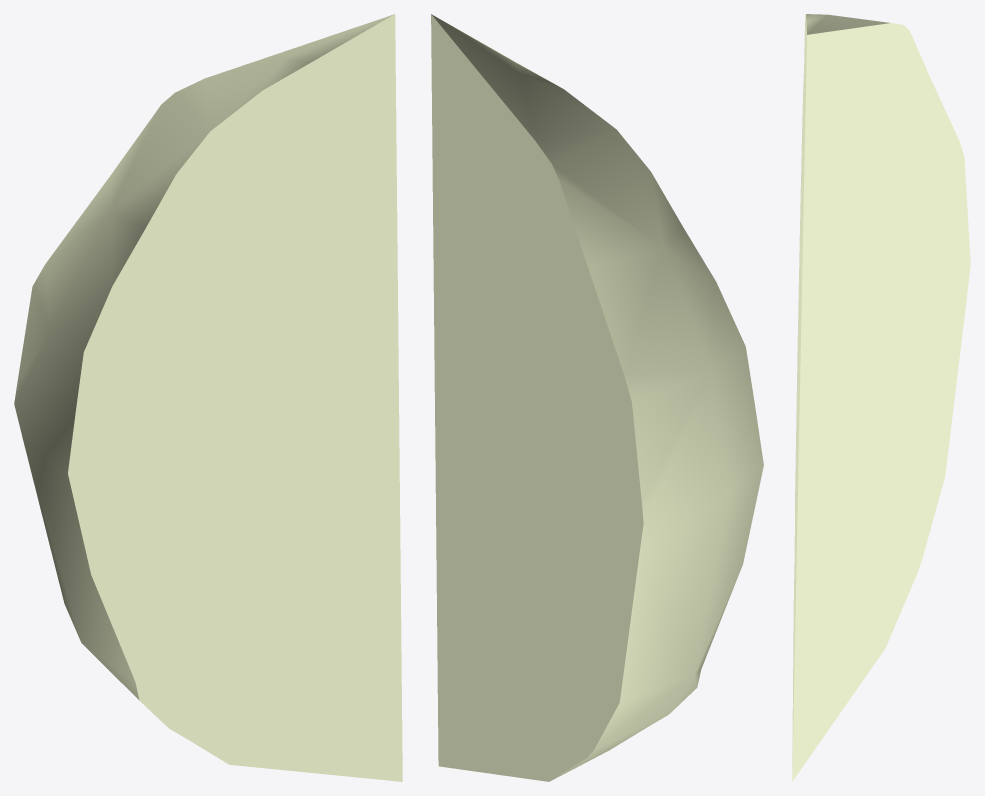
Rendered from FP_watermelon_slice.FBX.
3 views of the same model, side by side, from view 1: azimuth 30°, elevation 25°; view 2: azimuth 150°, elevation 25°; view 3: azimuth 270°, elevation 25° (orthographic). The views are drawn at different scales.
Parts seen in each view (by area): view 1: FP_watermelon_slice; view 2: FP_watermelon_slice; view 3: FP_watermelon_slice.
Part boxes in pixels (bbox=[...]): FP_watermelon_slice: bbox=[14, 14, 402, 781]; FP_watermelon_slice: bbox=[431, 14, 763, 781]; FP_watermelon_slice: bbox=[792, 14, 970, 781].
Size of the model in its own units: 0.0659 by 0.145 by 0.0314.
